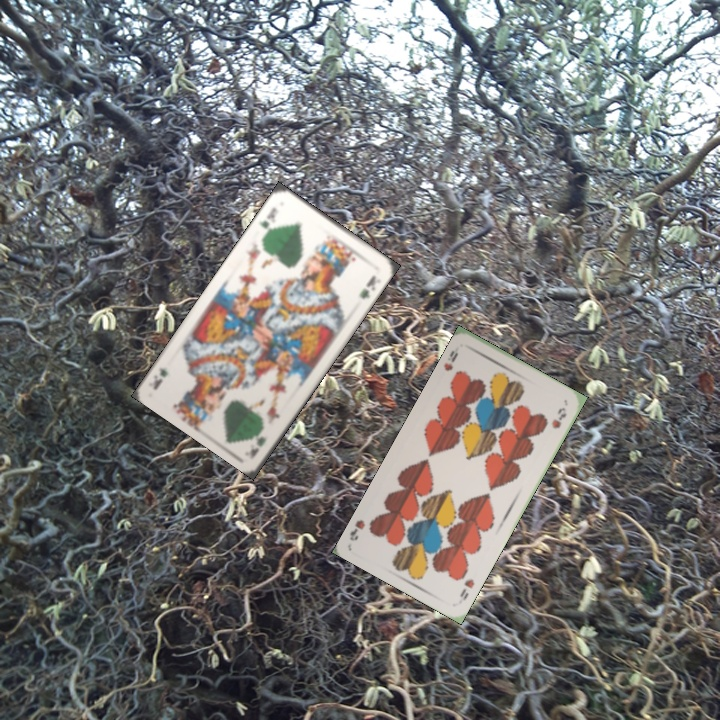GK: (255, 203, 281, 238), (246, 433, 267, 460)
H9: (440, 346, 461, 374), (456, 575, 477, 603)
